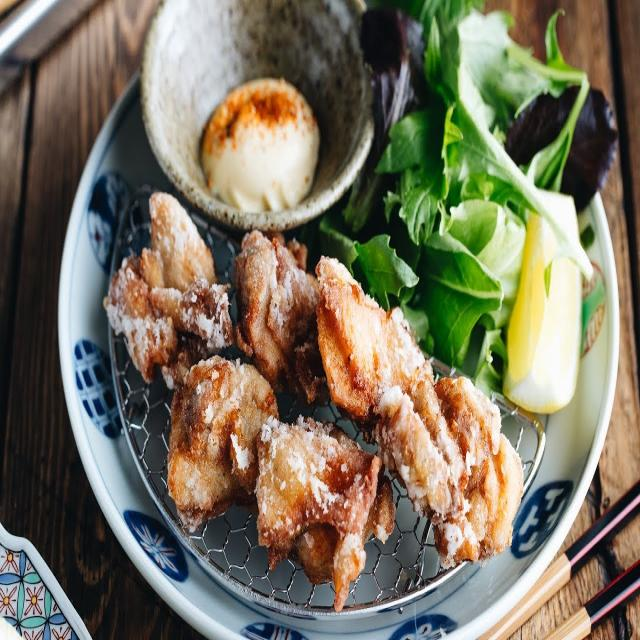Frango: (104, 190, 524, 630)
